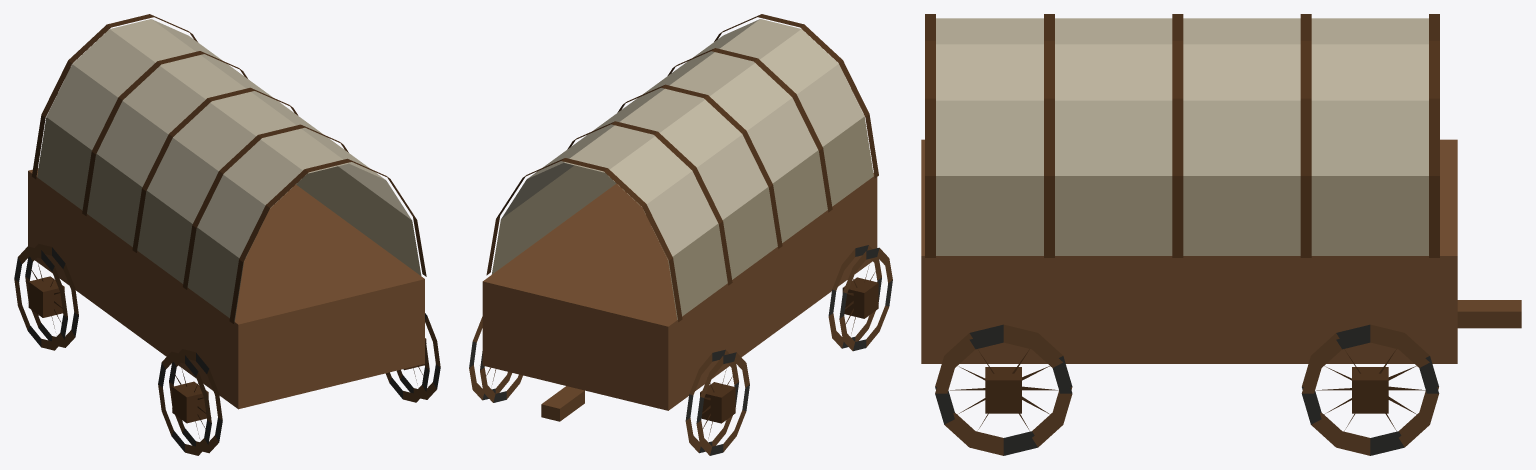
File: wagon.glb
3 renders of one model, left to right at view 1: azimuth 30°, elevation 25°; view 2: azimuth 150°, elevation 25°; view 3: azimuth 270°, elevation 25°, orthographic. The views are drawn at different scales.
Parts seen in each view (by area): view 1: wagon; view 2: wagon; view 3: wagon.
Part boxes in pixels (x1,y1,x2,y2): wagon: [14, 14, 440, 455]; wagon: [469, 14, 892, 455]; wagon: [921, 14, 1521, 455].
Bounding box in the file's own units: 0.77 × 0.8604 × 1.31.
